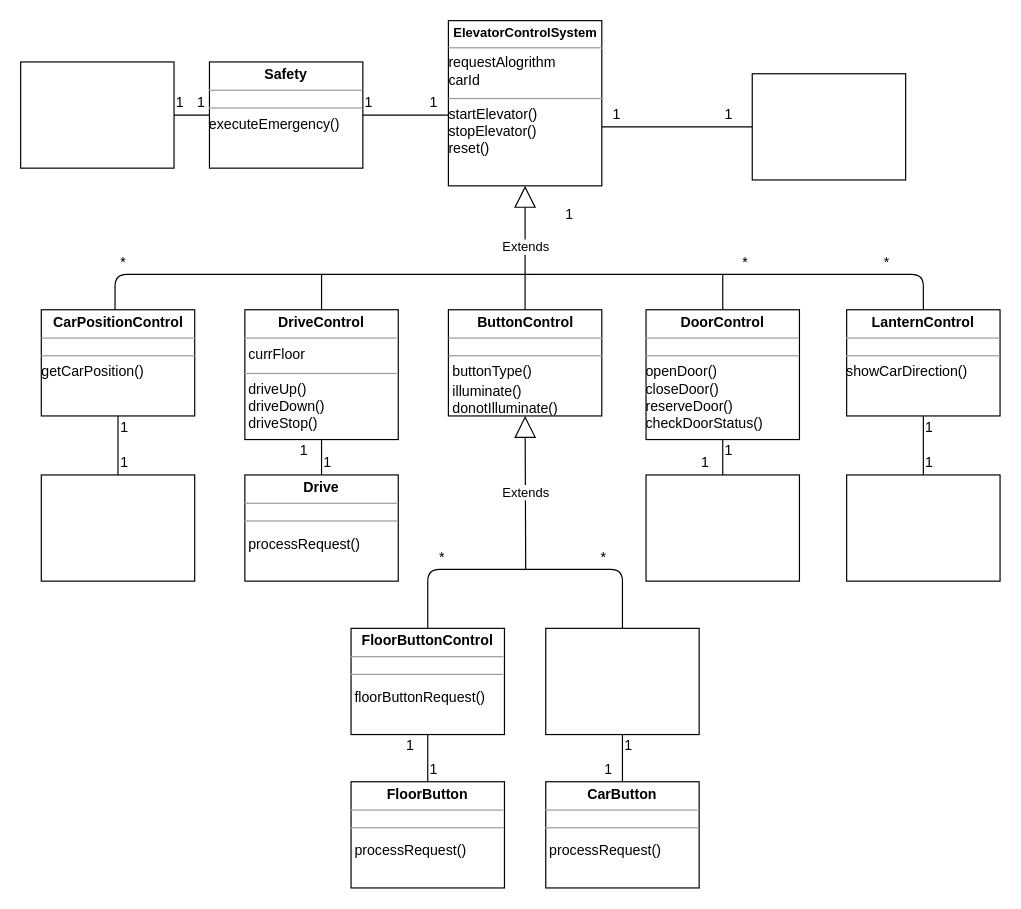
Some shapes in this 1021 by 909 pixel diagram are drawn without their labels. Here are the shapes that lost their labels. From the top down, the centre of each, then its label:
At point 96,114: "EmergencyBrake processRequest()".
At point 828,126: "Maintainence checkSystemStatus()".
At point 117,527: "CarPositionIndicator processRequest()".
At point 722,527: "Door processRequest()".
At point 922,527: "Lantern processRequest()".
At point 622,681: "CarButtonControl carButtonRequest()".
